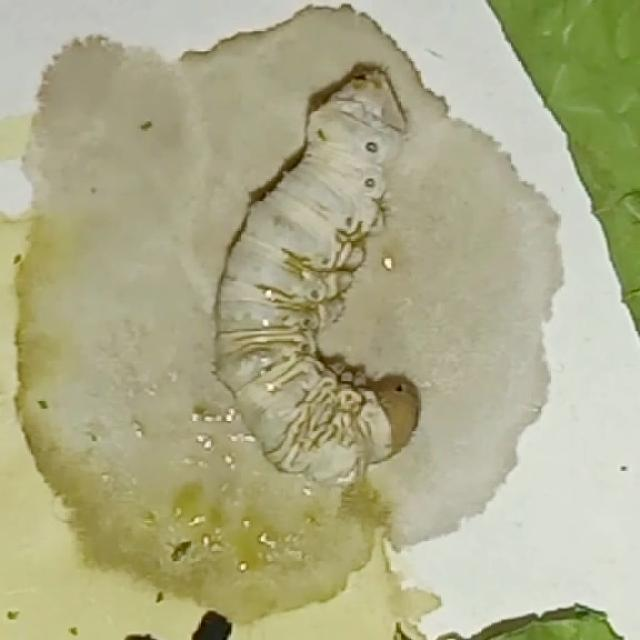Grasserie: (196, 44, 478, 502)
